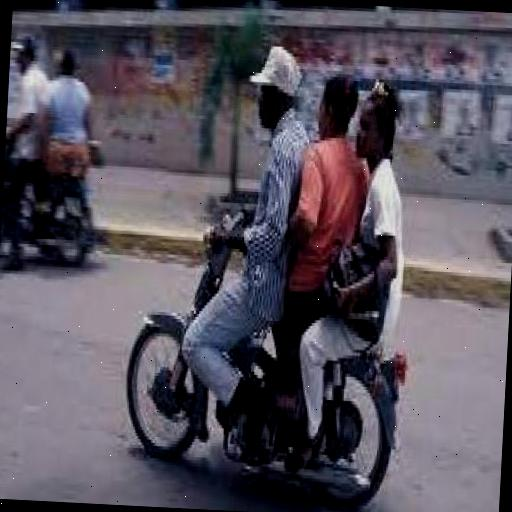no helmet: (234, 40, 320, 156)
triple riding: (108, 29, 454, 512)
